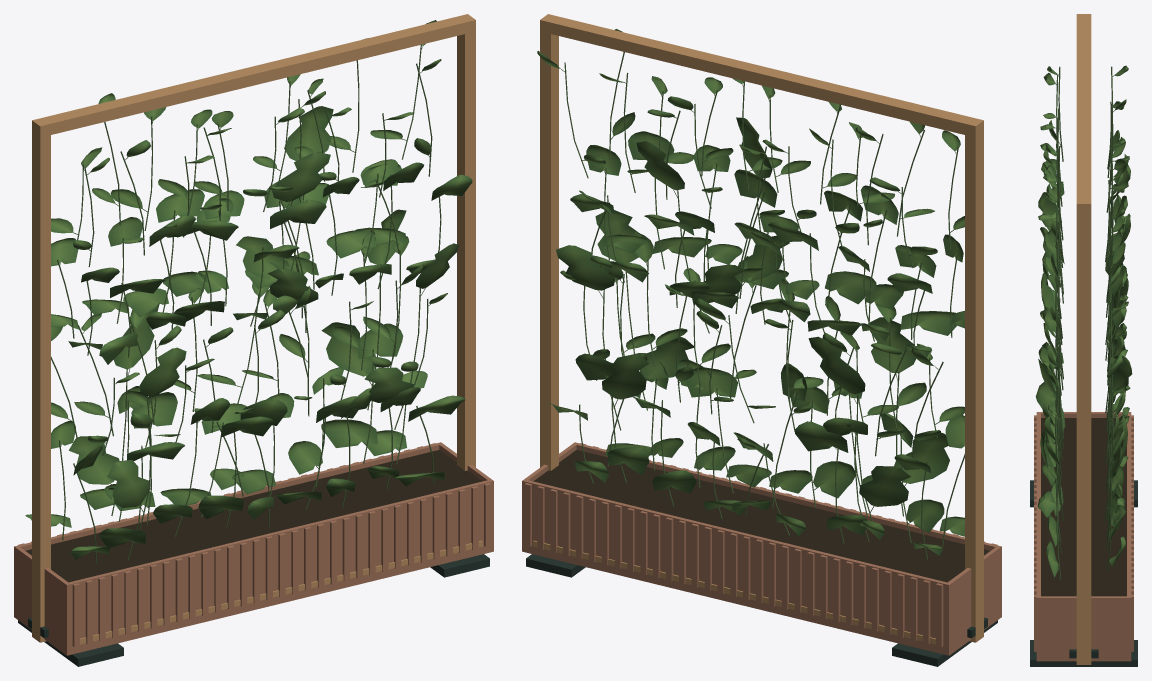
The model's file is botanicalDivider-4.glb.
3 views of the same model, side by side, from view 1: azimuth 30°, elevation 25°; view 2: azimuth 150°, elevation 25°; view 3: azimuth 270°, elevation 25° (orthographic). The views are drawn at different scales.
Parts seen in each view (by area): view 1: Botanical_living_foliage, Botanical_terracotta, Botanical_frame_finish, Botanical_recessed_soil, Botanical_connected_stems, Botanical_powdercoat; view 2: Botanical_living_foliage, Botanical_terracotta, Botanical_frame_finish, Botanical_recessed_soil, Botanical_connected_stems, Botanical_powdercoat; view 3: Botanical_living_foliage, Botanical_frame_finish, Botanical_recessed_soil, Botanical_terracotta, Botanical_connected_stems, Botanical_powdercoat.
Boxes of the visible parts, bbox=[...] form: Botanical_living_foliage: bbox=[25, 20, 472, 559]; Botanical_terracotta: bbox=[14, 442, 493, 655]; Botanical_frame_finish: bbox=[32, 14, 482, 644]; Botanical_recessed_soil: bbox=[25, 450, 482, 582]; Botanical_connected_stems: bbox=[51, 44, 441, 564]; Botanical_powdercoat: bbox=[18, 554, 489, 666]; Botanical_living_foliage: bbox=[537, 29, 964, 555]; Botanical_terracotta: bbox=[522, 442, 1001, 655]; Botanical_frame_finish: bbox=[533, 14, 983, 644]; Botanical_recessed_soil: bbox=[533, 450, 990, 582]; Botanical_connected_stems: bbox=[561, 52, 964, 559]; Botanical_powdercoat: bbox=[526, 554, 997, 666]; Botanical_living_foliage: bbox=[1035, 65, 1132, 577]; Botanical_frame_finish: bbox=[1076, 14, 1091, 664]; Botanical_recessed_soil: bbox=[1041, 418, 1126, 596]; Botanical_terracotta: bbox=[1034, 412, 1133, 661]; Botanical_connected_stems: bbox=[1054, 66, 1114, 580]; Botanical_powdercoat: bbox=[1030, 480, 1137, 666].
Size of the model in its own units: 2 by 2.3 by 0.48.
